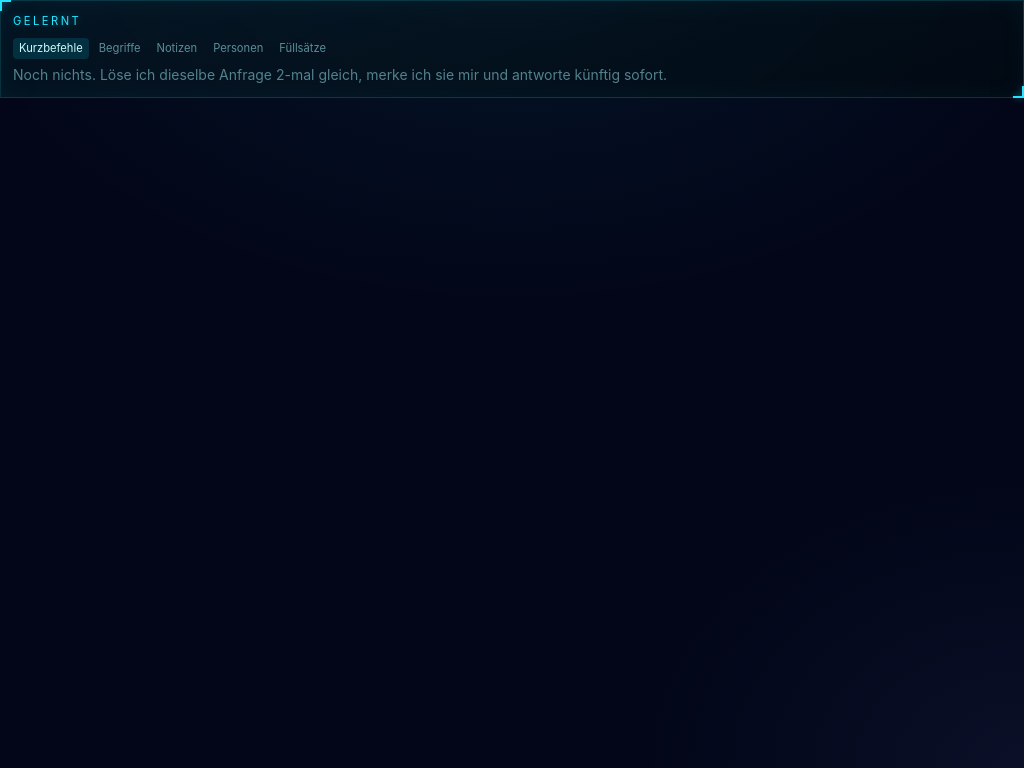
Test: LearnedPanel mit Gedächtnis › sagt, wenn noch nichts da ist
This screenshot has width=1024, height=768.
Click the tab "Notizen": (177, 48) [150,38,203,59]
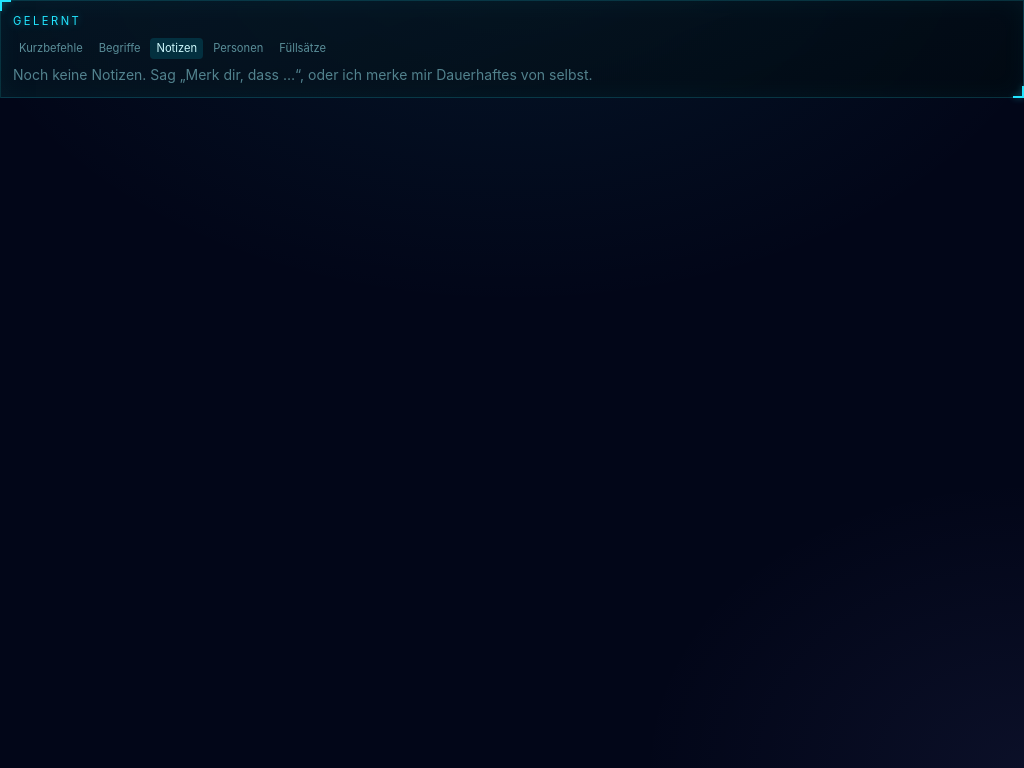
Expected: the text "Noch keine Notizen" is shown, [13,66,593,83]
Click the tab "Personen": (238, 48) [207,38,269,59]
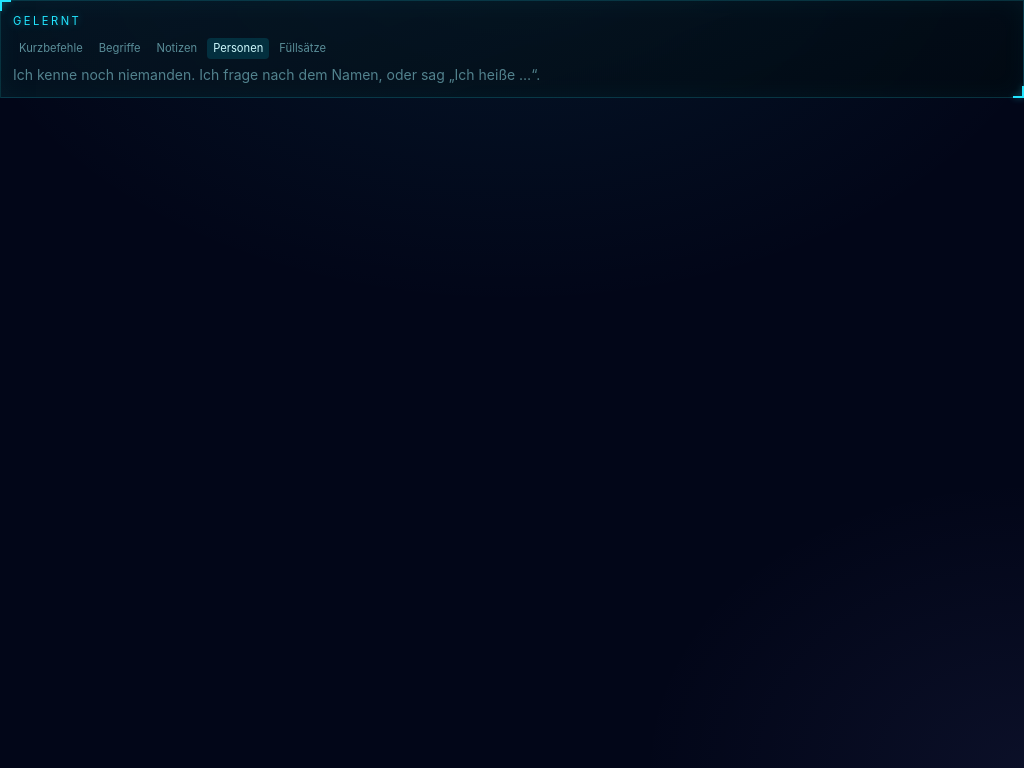
Expected: the text "Ich kenne noch niemanden" is shown, [13,66,195,83]
